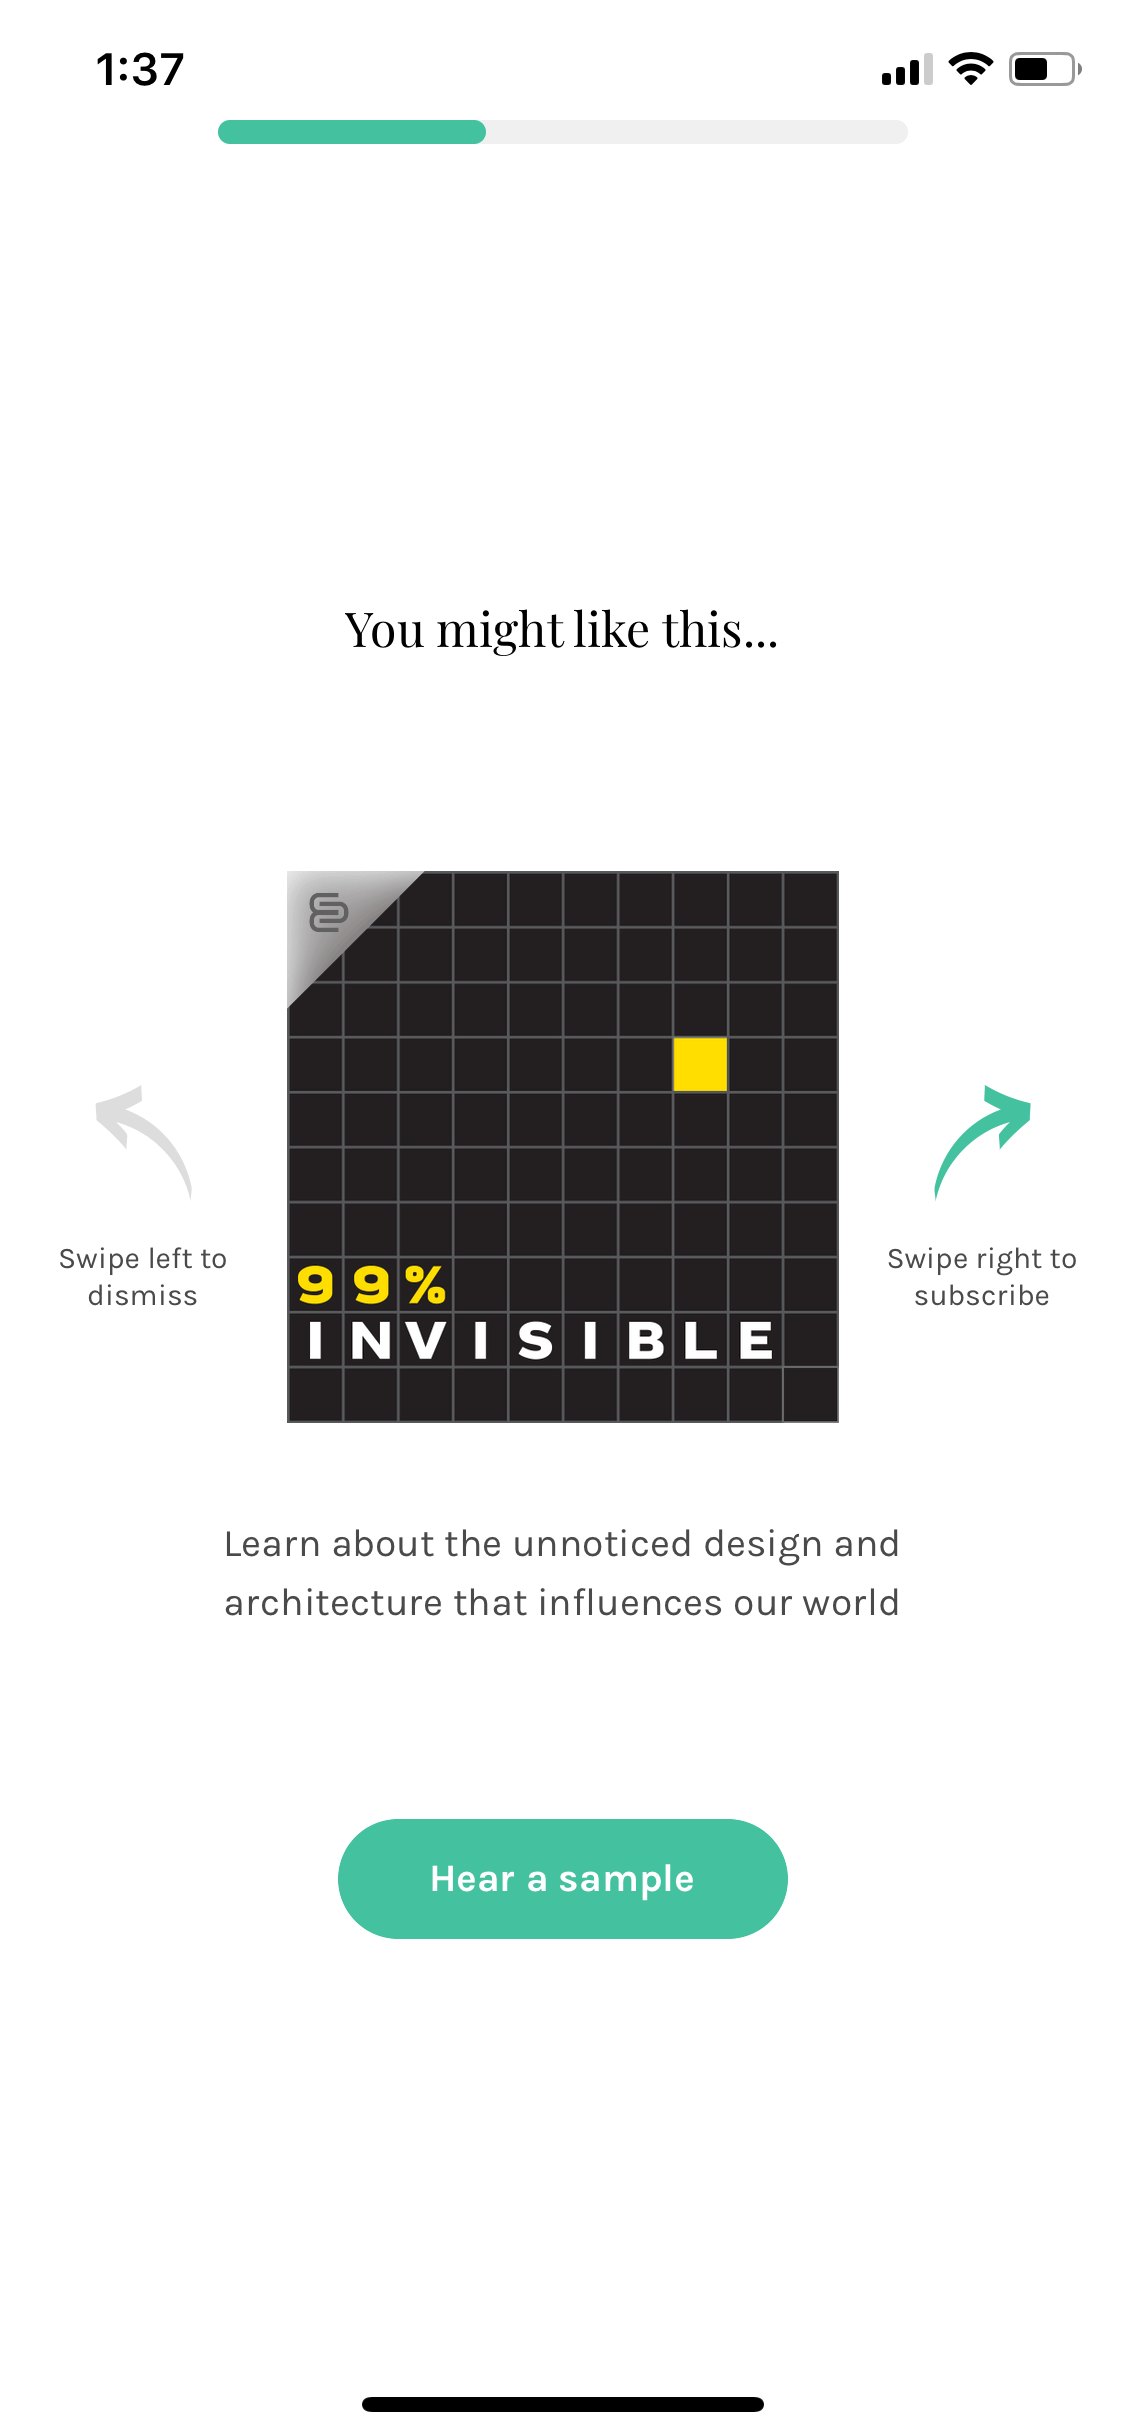Buttons: (323, 1802, 796, 1950), (873, 1036, 1095, 1327), (44, 1035, 250, 1327)
Progress indicators: (186, 89, 918, 190)
